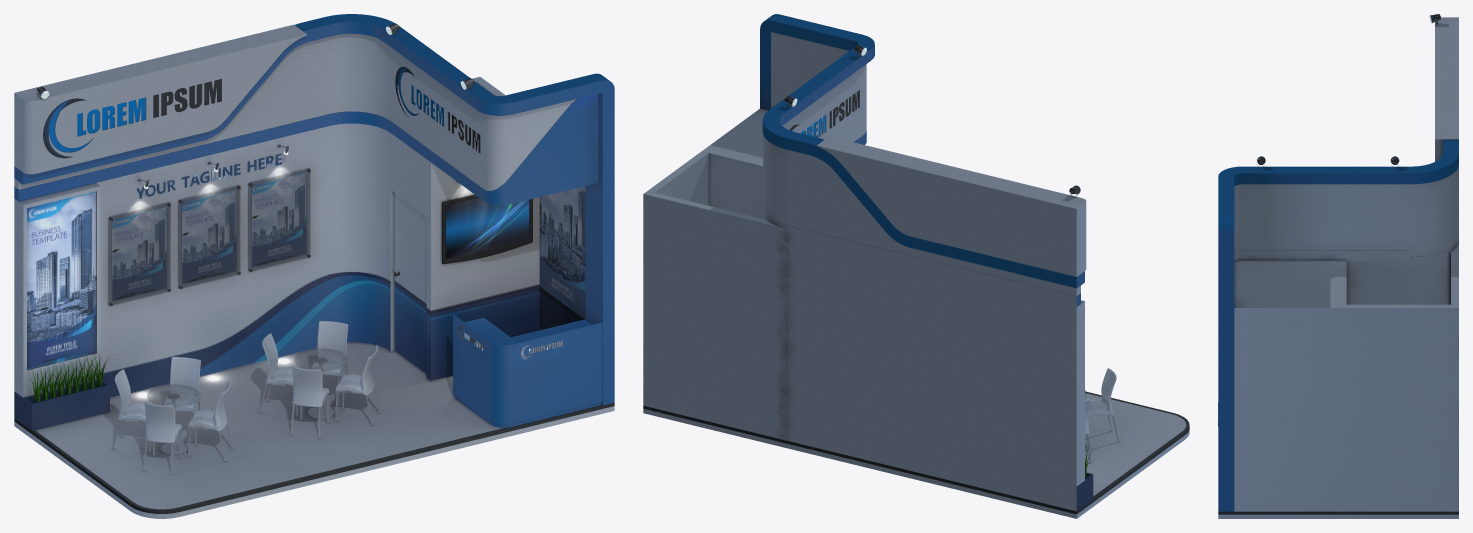
3 renders of one model, left to right at view 1: azimuth 30°, elevation 25°; view 2: azimuth 150°, elevation 25°; view 3: azimuth 270°, elevation 25°, orthographic. The views are drawn at different scales.
Parts seen in each view (by area): view 1: white_contruction, backroop, blue_contruction, poster, transparent, chair, illuminate_logo, Object174_Object174_mtl_0, silver, legs_chair, plant, croopping_logo (+2 smaller); view 2: white_contruction, blue_contruction, silver, chair, illuminate_logo; view 3: white_contruction, blue_contruction, silver.
Boxes of the visible parts, box(x1,y1,x2,y2) form: white_contruction: box(14, 24, 614, 518); backroop: box(96, 123, 539, 398); blue_contruction: box(14, 14, 614, 430); poster: box(27, 172, 585, 370); transparent: box(108, 168, 347, 407); chair: box(114, 321, 377, 442); illuminate_logo: box(43, 66, 480, 157); Object174_Object174_mtl_0: box(446, 197, 529, 259); silver: box(14, 168, 614, 513); legs_chair: box(112, 357, 380, 474); plant: box(29, 354, 109, 402); croopping_logo: box(136, 153, 562, 359); white_contruction: box(643, 32, 1189, 518); blue_contruction: box(760, 14, 1093, 510); silver: box(643, 391, 1189, 514); chair: box(1085, 368, 1116, 434); illuminate_logo: box(789, 90, 859, 137); white_contruction: box(1218, 17, 1458, 518); blue_contruction: box(1218, 140, 1458, 511); silver: box(1218, 511, 1458, 514).
Size of the model in its own units: 605 by 423 by 300.
Materials: 20 (20 with a texture image).
